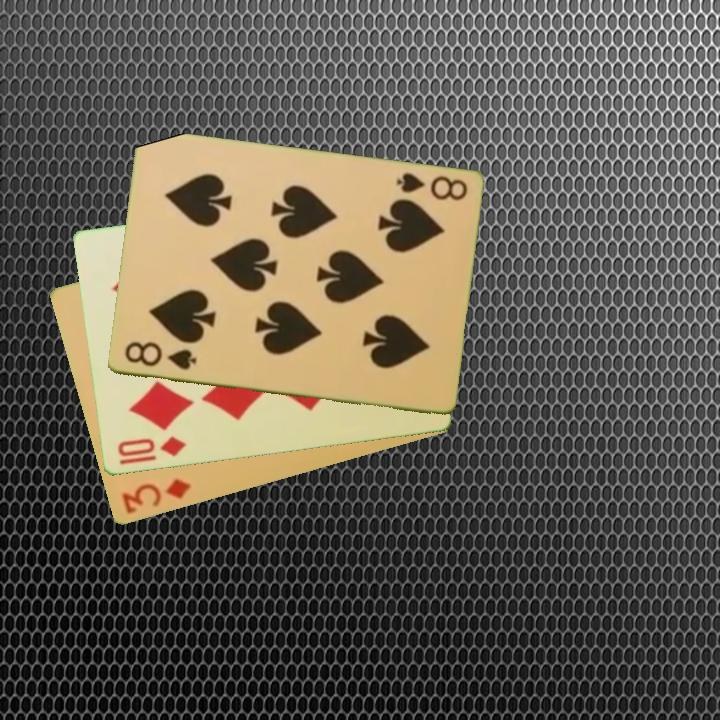10d: (113, 433, 189, 460)
3d: (118, 476, 194, 518)
8s: (121, 338, 199, 373), (392, 169, 470, 204)
